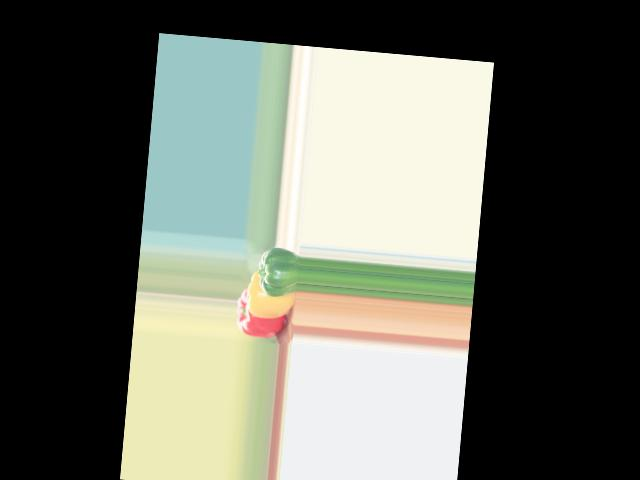bell_pepper: (235, 287, 294, 339)
